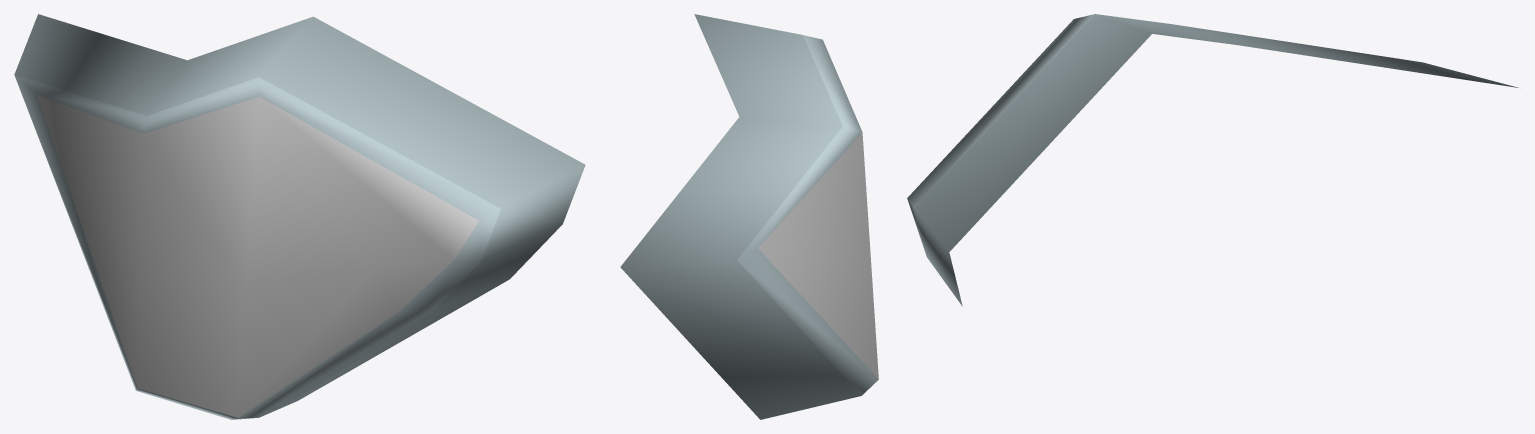
The model's file is LighthouseIceSheetFrontHigh_0.glb.
3 renders of one model, left to right at view 1: azimuth 30°, elevation 25°; view 2: azimuth 150°, elevation 25°; view 3: azimuth 270°, elevation 25°, orthographic. The views are drawn at different scales.
Visible parts, largest first — view 1: LighthouseIceSheetFrontHigh; view 2: LighthouseIceSheetFrontHigh; view 3: LighthouseIceSheetFrontHigh.
Part boxes in pixels (x1,y1,x2,y2): LighthouseIceSheetFrontHigh: [14, 14, 585, 419]; LighthouseIceSheetFrontHigh: [620, 14, 878, 419]; LighthouseIceSheetFrontHigh: [907, 14, 1518, 306].
Size of the model in its own units: 0.7796 by 0.7856 by 1.1.
